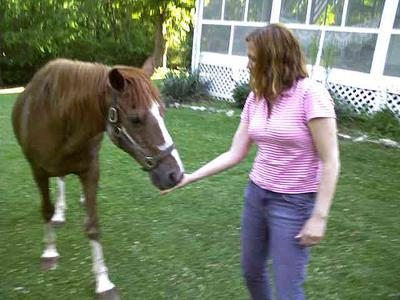person: (162, 20, 342, 298)
